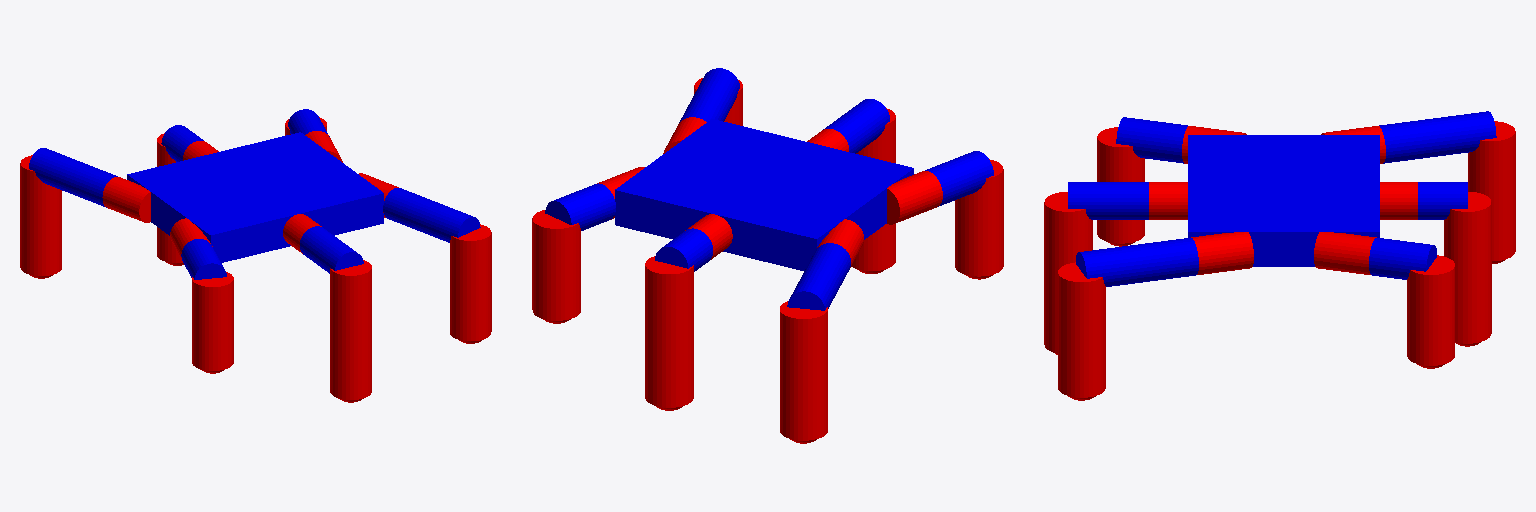
--- Facts derived from the render (not from the file) ---
The picture shows the robot from 3 angles, left to right: view 1: azimuth 30°, elevation 25°; view 2: azimuth 150°, elevation 25°; view 3: azimuth 270°, elevation 25°; orthographic projection.
Robot: pexod — 19 links, 18 joints (18 revolute); root link base_link; default pose: all joints at 0.
Visible links, largest first — view 1: base_link, leg_4_3, leg_3_3, leg_0_3, leg_5_3, leg_3_2, leg_0_2, leg_4_2, leg_0_1, leg_5_2, leg_1_3, leg_1_2 (+3 smaller); view 2: base_link, leg_1_3, leg_0_3, leg_2_3, leg_5_3, leg_0_2, leg_4_3, leg_2_2, leg_5_1, leg_5_2, leg_3_2, leg_4_2 (+5 smaller); view 3: base_link, leg_3_3, leg_1_3, leg_2_3, leg_0_3, leg_3_2, leg_0_2, leg_4_3, leg_5_3, leg_4_2, leg_5_2, leg_2_2 (+5 smaller).
Link boxes in pixels (<box>): base_link: <box>127,132,383,262</box>; leg_4_3: <box>330,260,371,402</box>; leg_3_3: <box>450,224,491,343</box>; leg_0_3: <box>20,155,61,278</box>; leg_5_3: <box>192,272,233,373</box>; leg_3_2: <box>383,188,480,242</box>; leg_0_2: <box>29,148,117,207</box>; leg_4_2: <box>300,226,363,273</box>; leg_0_1: <box>102,177,150,222</box>; leg_5_2: <box>181,239,226,279</box>; leg_1_3: <box>157,133,183,265</box>; leg_1_2: <box>161,125,203,161</box>; base_link: <box>615,119,913,270</box>; leg_1_3: <box>645,256,693,410</box>; leg_0_3: <box>780,301,827,443</box>; leg_2_3: <box>532,210,580,323</box>; leg_5_3: <box>955,159,1003,279</box>; leg_0_2: <box>787,243,850,310</box>; leg_4_3: <box>851,108,895,273</box>; leg_2_2: <box>545,183,615,230</box>; leg_5_1: <box>887,171,942,224</box>; leg_5_2: <box>925,151,993,206</box>; leg_3_2: <box>679,68,739,122</box>; leg_4_2: <box>823,99,889,153</box>; base_link: <box>1188,135,1379,266</box>; leg_3_3: <box>1058,262,1105,400</box>; leg_1_3: <box>1444,192,1491,346</box>; leg_2_3: <box>1407,255,1454,368</box>; leg_0_3: <box>1468,121,1515,263</box>; leg_3_2: <box>1076,238,1198,286</box>; leg_0_2: <box>1379,111,1496,163</box>; leg_4_3: <box>1044,192,1092,354</box>; leg_5_3: <box>1097,127,1144,246</box>; leg_4_2: <box>1068,182,1148,219</box>; leg_5_2: <box>1116,117,1187,163</box>; leg_2_2: <box>1369,238,1436,279</box>.
Size in the robot's own frame: 0.3969 by 0.4903 by 0.1967 metres.
Geometry: primitives only (box / cylinder / sphere), no mesh files.

robot.urdf — pexod:
<?xml version="1.0" ?>
<!-- =================================================================================== -->
<!-- |    This document was autogenerated by xacro from pexod.xacro                    | -->
<!-- |    EDITING THIS FILE BY HAND IS NOT RECOMMENDED                                 | -->
<!-- =================================================================================== -->
<robot name="pexod" xmlns:xacro="http://www.ros.org/wiki/xacro">
  <!-- <xacro:include filename="$(find pexod_description)/urdf/pexod_control.xacro" /> -->
  <!-- MATERIALS -->
  <material name="Blue">
    <color rgba="0 0 1 1"/>
  </material>
  <material name="Red">
    <color rgba="1 0 0 1"/>
  </material>
  <material name="Green">
    <color rgba="0 1 0 1"/>
  </material>
  <material name="Yellow">
    <color rgba="1 1 0 1"/>
  </material>
  <material name="LightGrey">
    <color rgba="0.6 0.6 0.6 1.0"/>
  </material>
  <!-- END OF MATERIALS -->
  <!-- XACRO MACROS FOR VISUALS AND COLLISIONS -->
  <!-- END OF XACRO MACROS -->
  <!-- TORSO -->
  <link name="base_link">
    <visual>
      <origin rpy="0 0 0" xyz="0 0 0"/>
      <geometry>
        <box size="0.24 0.2 0.04"/>
      </geometry>
      <material name="Blue"/>
    </visual>
    <collision>
      <origin rpy="0 0 0" xyz="0 0 0"/>
      <geometry>
        <box size="0.24 0.2 0.04"/>
      </geometry>
    </collision>
    <inertial>
      <!-- CENTER OF MASS -->
      <origin rpy="0 0 0" xyz="0 0 0"/>
      <mass value="1.031"/>
      <!-- box inertia: 1/12*m(y^2+z^2), ... -->
      <inertia ixx="0.00357413333333" ixy="0" ixz="0" iyy="0.00508626666667" iyz="0" izz="0.00838546666667"/>
    </inertial>
  </link>
  <!-- XACRO MACRO FOR LEGS LINKS/JOINTS -->
  <!-- END OF LEG LINKS/JOINTS -->
  <joint name="body_leg_2" type="revolute">
    <parent link="base_link"/>
    <child link="leg_2_1"/>
    <limit effort="30.0" lower="-1.57079632679" upper="1.57079632679" velocity="7.0"/>
    <origin rpy="0 0 -0.3" xyz="0.11 0.04 0"/>
    <!-- <xacro:if value="${index == 5 or index == 4 or index == 3}">
                <axis xyz="0 0 1"/>
            </xacro:if>
            <xacro:if value="${index == 2 or index == 1 or index == 0}"> -->
    <axis xyz="0 0 1"/>
    <!-- </xacro:if> -->
    <dynamics damping="0.0"/>
  </joint>
  <link name="leg_2_1">
    <visual>
      <origin rpy="1.57079632679 0 0" xyz="0.01 0.03 0"/>
      <geometry>
        <cylinder length="0.06" radius="0.02"/>
      </geometry>
      <material name="Red"/>
    </visual>
    <collision>
      <origin rpy="1.57079632679 0 0" xyz="0.01 0.03 0"/>
      <geometry>
        <box size="0.02 0.02 0.06"/>
      </geometry>
    </collision>
    <inertial>
      <!-- CENTER OF MASS -->
      <origin rpy="1.57079632679 0 0" xyz="0.01 0.03 0"/>
      <mass value="0.02"/>
      <!-- box inertia: 1/12*m(y^2+z^2), ... -->
      <inertia ixx="6.66666666667e-06" ixy="0" ixz="0" iyy="6.66666666667e-06" iyz="0" izz="1.33333333333e-06"/>
    </inertial>
  </link>
  <joint name="leg_2_1_2" type="revolute">
    <parent link="leg_2_1"/>
    <child link="leg_2_2"/>
    <limit effort="30.0" lower="-0.78539816339" upper="0.78539816339" velocity="7.0"/>
    <origin rpy="0 0 0" xyz="0 0.06 0"/>
    <axis xyz="1 0 0"/>
    <dynamics damping="0.0"/>
  </joint>
  <link name="leg_2_2">
    <visual>
      <origin rpy="1.57079632679 0 0" xyz="0.01 0.0311869751796 0"/>
      <geometry>
        <cylinder length="0.0623739503592" radius="0.02"/>
      </geometry>
      <material name="Blue"/>
    </visual>
    <collision>
      <origin rpy="1.57079632679 0 0" xyz="0.01 0.0311869751796 0"/>
      <geometry>
        <box size="0.02 0.02 0.0623739503592"/>
      </geometry>
    </collision>
    <inertial>
      <!-- CENTER OF MASS -->
      <origin rpy="1.57079632679 0 0" xyz="0.01 0.0311869751796 0"/>
      <mass value="0.184"/>
      <!-- box inertia: 1/12*m(y^2+z^2), ... -->
      <inertia ixx="6.57878151456e-05" ixy="0" ixz="0" iyy="6.57878151456e-05" iyz="0" izz="1.22666666667e-05"/>
    </inertial>
  </link>
  <joint name="leg_2_2_3" type="revolute">
    <parent link="leg_2_2"/>
    <child link="leg_2_3"/>
    <limit effort="30.0" lower="-0.78539816339" upper="0.78539816339" velocity="7.0"/>
    <origin rpy="-1.57079632679 0 0" xyz="0 0.0623739503592 0"/>
    <axis xyz="-1 0 0"/>
    <dynamics damping="0.0"/>
  </joint>
  <link name="leg_2_3">
    <visual>
      <origin rpy="1.57079632679 0 0" xyz="0.0125 0.0521274143335 0"/>
      <geometry>
        <cylinder length="0.104254828667" radius="0.025"/>
      </geometry>
      <material name="Red"/>
    </visual>
    <visual>
      <origin rpy="1.57079632679 0 0" xyz="0.0125 0.091754828667 0"/>
      <geometry>
        <sphere radius="0.025"/>
      </geometry>
      <material name="Red"/>
    </visual>
    <collision>
      <origin rpy="1.57079632679 0 0" xyz="0.0125 0.0521274143335 0"/>
      <geometry>
        <box size="0.025 0.025 0.104254828667"/>
      </geometry>
    </collision>
    <collision>
      <origin rpy="1.57079632679 0 0" xyz="0.0125 0.091754828667 0"/>
      <geometry>
        <sphere radius="0.025"/>
      </geometry>
      <material name="Red"/>
    </collision>
    <inertial>
      <!-- CENTER OF MASS -->
      <origin rpy="1.57079632679 0 0" xyz="0.0125 0.0521274143335 0"/>
      <mass value="0.04"/>
      <!-- box inertia: 1/12*m(y^2+z^2), ... -->
      <inertia ixx="3.83135643346e-05" ixy="0" ixz="0" iyy="3.83135643346e-05" iyz="0" izz="4.16666666667e-06"/>
    </inertial>
  </link>
  <joint name="body_leg_3" type="revolute">
    <parent link="base_link"/>
    <child link="leg_3_1"/>
    <limit effort="30.0" lower="-1.57079632679" upper="1.57079632679" velocity="7.0"/>
    <origin rpy="0 0 0.3" xyz="0.11 -0.04 0"/>
    <!-- <xacro:if value="${index == 5 or index == 4 or index == 3}">
                <axis xyz="0 0 1"/>
            </xacro:if>
            <xacro:if value="${index == 2 or index == 1 or index == 0}"> -->
    <axis xyz="0 0 1"/>
    <!-- </xacro:if> -->
    <dynamics damping="0.0"/>
  </joint>
  <link name="leg_3_1">
    <visual>
      <origin rpy="1.57079632679 0 0" xyz="0.01 -0.03 0"/>
      <geometry>
        <cylinder length="0.06" radius="0.02"/>
      </geometry>
      <material name="Red"/>
    </visual>
    <collision>
      <origin rpy="1.57079632679 0 0" xyz="0.01 -0.03 0"/>
      <geometry>
        <box size="0.02 0.02 0.06"/>
      </geometry>
    </collision>
    <inertial>
      <!-- CENTER OF MASS -->
      <origin rpy="1.57079632679 0 0" xyz="0.01 -0.03 0"/>
      <mass value="0.02"/>
      <!-- box inertia: 1/12*m(y^2+z^2), ... -->
      <inertia ixx="6.66666666667e-06" ixy="0" ixz="0" iyy="6.66666666667e-06" iyz="0" izz="1.33333333333e-06"/>
    </inertial>
  </link>
  <joint name="leg_3_1_2" type="revolute">
    <parent link="leg_3_1"/>
    <child link="leg_3_2"/>
    <limit effort="30.0" lower="-0.78539816339" upper="0.78539816339" velocity="7.0"/>
    <origin rpy="0 0 0" xyz="0 -0.06 0"/>
    <axis xyz="-1 0 0"/>
    <dynamics damping="0.0"/>
  </joint>
  <link name="leg_3_2">
    <visual>
      <origin rpy="1.57079632679 0 0" xyz="0.01 -0.0610281422505 0"/>
      <geometry>
        <cylinder length="0.122056284501" radius="0.02"/>
      </geometry>
      <material name="Blue"/>
    </visual>
    <collision>
      <origin rpy="1.57079632679 0 0" xyz="0.01 -0.0610281422505 0"/>
      <geometry>
        <box size="0.02 0.02 0.122056284501"/>
      </geometry>
    </collision>
    <inertial>
      <!-- CENTER OF MASS -->
      <origin rpy="1.57079632679 0 0" xyz="0.01 -0.0610281422505 0"/>
      <mass value="0.184"/>
      <!-- box inertia: 1/12*m(y^2+z^2), ... -->
      <inertia ixx="0.000234565294322" ixy="0" ixz="0" iyy="0.000234565294322" iyz="0" izz="1.22666666667e-05"/>
    </inertial>
  </link>
  <joint name="leg_3_2_3" type="revolute">
    <parent link="leg_3_2"/>
    <child link="leg_3_3"/>
    <limit effort="30.0" lower="-0.78539816339" upper="0.78539816339" velocity="7.0"/>
    <origin rpy="1.57079632679 0 0" xyz="0 -0.122056284501 0"/>
    <axis xyz="1 0 0"/>
    <dynamics damping="0.0"/>
  </joint>
  <link name="leg_3_3">
    <visual>
      <origin rpy="1.57079632679 0 0" xyz="0.0125 -0.066341648428 0"/>
      <geometry>
        <cylinder length="0.132683296856" radius="0.025"/>
      </geometry>
      <material name="Red"/>
    </visual>
    <visual>
      <origin rpy="1.57079632679 0 0" xyz="0.0125 -0.120183296856 0"/>
      <geometry>
        <sphere radius="0.025"/>
      </geometry>
      <material name="Red"/>
    </visual>
    <collision>
      <origin rpy="1.57079632679 0 0" xyz="0.0125 -0.066341648428 0"/>
      <geometry>
        <box size="0.025 0.025 0.132683296856"/>
      </geometry>
    </collision>
    <collision>
      <origin rpy="1.57079632679 0 0" xyz="0.0125 -0.120183296856 0"/>
      <geometry>
        <sphere radius="0.025"/>
      </geometry>
      <material name="Red"/>
    </collision>
    <inertial>
      <!-- CENTER OF MASS -->
      <origin rpy="1.57079632679 0 0" xyz="0.0125 -0.066341648428 0"/>
      <mass value="0.04"/>
      <!-- box inertia: 1/12*m(y^2+z^2), ... -->
      <inertia ixx="6.07661908819e-05" ixy="0" ixz="0" iyy="6.07661908819e-05" iyz="0" izz="4.16666666667e-06"/>
    </inertial>
  </link>
  <joint name="body_leg_0" type="revolute">
    <parent link="base_link"/>
    <child link="leg_0_1"/>
    <limit effort="30.0" lower="-1.57079632679" upper="1.57079632679" velocity="7.0"/>
    <origin rpy="0 0 0.3" xyz="-0.13 0.04 0"/>
    <!-- <xacro:if value="${index == 5 or index == 4 or index == 3}">
                <axis xyz="0 0 1"/>
            </xacro:if>
            <xacro:if value="${index == 2 or index == 1 or index == 0}"> -->
    <axis xyz="0 0 1"/>
    <!-- </xacro:if> -->
    <dynamics damping="0.0"/>
  </joint>
  <link name="leg_0_1">
    <visual>
      <origin rpy="1.57079632679 0 0" xyz="0.01 0.03 0"/>
      <geometry>
        <cylinder length="0.06" radius="0.02"/>
      </geometry>
      <material name="Red"/>
    </visual>
    <collision>
      <origin rpy="1.57079632679 0 0" xyz="0.01 0.03 0"/>
      <geometry>
        <box size="0.02 0.02 0.06"/>
      </geometry>
    </collision>
    <inertial>
      <!-- CENTER OF MASS -->
      <origin rpy="1.57079632679 0 0" xyz="0.01 0.03 0"/>
      <mass value="0.02"/>
      <!-- box inertia: 1/12*m(y^2+z^2), ... -->
      <inertia ixx="6.66666666667e-06" ixy="0" ixz="0" iyy="6.66666666667e-06" iyz="0" izz="1.33333333333e-06"/>
    </inertial>
  </link>
  <joint name="leg_0_1_2" type="revolute">
    <parent link="leg_0_1"/>
    <child link="leg_0_2"/>
    <limit effort="30.0" lower="-0.78539816339" upper="0.78539816339" velocity="7.0"/>
    <origin rpy="0 0 0" xyz="0 0.06 0"/>
    <axis xyz="1 0 0"/>
    <dynamics damping="0.0"/>
  </joint>
  <link name="leg_0_2">
    <visual>
      <origin rpy="1.57079632679 0 0" xyz="0.01 0.0602685605455 0"/>
      <geometry>
        <cylinder length="0.120537121091" radius="0.02"/>
      </geometry>
      <material name="Blue"/>
    </visual>
    <collision>
      <origin rpy="1.57079632679 0 0" xyz="0.01 0.0602685605455 0"/>
      <geometry>
        <box size="0.02 0.02 0.120537121091"/>
      </geometry>
    </collision>
    <inertial>
      <!-- CENTER OF MASS -->
      <origin rpy="1.57079632679 0 0" xyz="0.01 0.0602685605455 0"/>
      <mass value="0.184"/>
      <!-- box inertia: 1/12*m(y^2+z^2), ... -->
      <inertia ixx="0.000228914362601" ixy="0" ixz="0" iyy="0.000228914362601" iyz="0" izz="1.22666666667e-05"/>
    </inertial>
  </link>
  <joint name="leg_0_2_3" type="revolute">
    <parent link="leg_0_2"/>
    <child link="leg_0_3"/>
    <limit effort="30.0" lower="-0.78539816339" upper="0.78539816339" velocity="7.0"/>
    <origin rpy="-1.57079632679 0 0" xyz="0 0.120537121091 0"/>
    <axis xyz="-1 0 0"/>
    <dynamics damping="0.0"/>
  </joint>
  <link name="leg_0_3">
    <visual>
      <origin rpy="1.57079632679 0 0" xyz="0.0125 0.0689548876985 0"/>
      <geometry>
        <cylinder length="0.137909775397" radius="0.025"/>
      </geometry>
      <material name="Red"/>
    </visual>
    <visual>
      <origin rpy="1.57079632679 0 0" xyz="0.0125 0.125409775397 0"/>
      <geometry>
        <sphere radius="0.025"/>
      </geometry>
      <material name="Red"/>
    </visual>
    <collision>
      <origin rpy="1.57079632679 0 0" xyz="0.0125 0.0689548876985 0"/>
      <geometry>
        <box size="0.025 0.025 0.137909775397"/>
      </geometry>
    </collision>
    <collision>
      <origin rpy="1.57079632679 0 0" xyz="0.0125 0.125409775397 0"/>
      <geometry>
        <sphere radius="0.025"/>
      </geometry>
      <material name="Red"/>
    </collision>
    <inertial>
      <!-- CENTER OF MASS -->
      <origin rpy="1.57079632679 0 0" xyz="0.0125 0.0689548876985 0"/>
      <mass value="0.04"/>
      <!-- box inertia: 1/12*m(y^2+z^2), ... -->
      <inertia ixx="6.54803538335e-05" ixy="0" ixz="0" iyy="6.54803538335e-05" iyz="0" izz="4.16666666667e-06"/>
    </inertial>
  </link>
  <joint name="body_leg_5" type="revolute">
    <parent link="base_link"/>
    <child link="leg_5_1"/>
    <limit effort="30.0" lower="-1.57079632679" upper="1.57079632679" velocity="7.0"/>
    <origin rpy="0 0 -0.3" xyz="-0.13 -0.04 0"/>
    <!-- <xacro:if value="${index == 5 or index == 4 or index == 3}">
                <axis xyz="0 0 1"/>
            </xacro:if>
            <xacro:if value="${index == 2 or index == 1 or index == 0}"> -->
    <axis xyz="0 0 1"/>
    <!-- </xacro:if> -->
    <dynamics damping="0.0"/>
  </joint>
  <link name="leg_5_1">
    <visual>
      <origin rpy="1.57079632679 0 0" xyz="0.01 -0.03 0"/>
      <geometry>
        <cylinder length="0.06" radius="0.02"/>
      </geometry>
      <material name="Red"/>
    </visual>
    <collision>
      <origin rpy="1.57079632679 0 0" xyz="0.01 -0.03 0"/>
      <geometry>
        <box size="0.02 0.02 0.06"/>
      </geometry>
    </collision>
    <inertial>
      <!-- CENTER OF MASS -->
      <origin rpy="1.57079632679 0 0" xyz="0.01 -0.03 0"/>
      <mass value="0.02"/>
      <!-- box inertia: 1/12*m(y^2+z^2), ... -->
      <inertia ixx="6.66666666667e-06" ixy="0" ixz="0" iyy="6.66666666667e-06" iyz="0" izz="1.33333333333e-06"/>
    </inertial>
  </link>
  <joint name="leg_5_1_2" type="revolute">
    <parent link="leg_5_1"/>
    <child link="leg_5_2"/>
    <limit effort="30.0" lower="-0.78539816339" upper="0.78539816339" velocity="7.0"/>
    <origin rpy="0 0 0" xyz="0 -0.06 0"/>
    <axis xyz="-1 0 0"/>
    <dynamics damping="0.0"/>
  </joint>
  <link name="leg_5_2">
    <visual>
      <origin rpy="1.57079632679 0 0" xyz="0.01 -0.0357809800666 0"/>
      <geometry>
        <cylinder length="0.0715619601332" radius="0.02"/>
      </geometry>
      <material name="Blue"/>
    </visual>
    <collision>
      <origin rpy="1.57079632679 0 0" xyz="0.01 -0.0357809800666 0"/>
      <geometry>
        <box size="0.02 0.02 0.0715619601332"/>
      </geometry>
    </collision>
    <inertial>
      <!-- CENTER OF MASS -->
      <origin rpy="1.57079632679 0 0" xyz="0.01 -0.0357809800666 0"/>
      <mass value="0.184"/>
      <!-- box inertia: 1/12*m(y^2+z^2), ... -->
      <inertia ixx="8.4657083451e-05" ixy="0" ixz="0" iyy="8.4657083451e-05" iyz="0" izz="1.22666666667e-05"/>
    </inertial>
  </link>
  <joint name="leg_5_2_3" type="revolute">
    <parent link="leg_5_2"/>
    <child link="leg_5_3"/>
    <limit effort="30.0" lower="-0.78539816339" upper="0.78539816339" velocity="7.0"/>
    <origin rpy="1.57079632679 0 0" xyz="0 -0.0715619601332 0"/>
    <axis xyz="1 0 0"/>
    <dynamics damping="0.0"/>
  </joint>
  <link name="leg_5_3">
    <visual>
      <origin rpy="1.57079632679 0 0" xyz="0.0125 -0.055387061533 0"/>
      <geometry>
        <cylinder length="0.110774123066" radius="0.025"/>
      </geometry>
      <material name="Red"/>
    </visual>
    <visual>
      <origin rpy="1.57079632679 0 0" xyz="0.0125 -0.098274123066 0"/>
      <geometry>
        <sphere radius="0.025"/>
      </geometry>
      <material name="Red"/>
    </visual>
    <collision>
      <origin rpy="1.57079632679 0 0" xyz="0.0125 -0.055387061533 0"/>
      <geometry>
        <box size="0.025 0.025 0.110774123066"/>
      </geometry>
    </collision>
    <collision>
      <origin rpy="1.57079632679 0 0" xyz="0.0125 -0.098274123066 0"/>
      <geometry>
        <sphere radius="0.025"/>
      </geometry>
      <material name="Red"/>
    </collision>
    <inertial>
      <!-- CENTER OF MASS -->
      <origin rpy="1.57079632679 0 0" xyz="0.0125 -0.055387061533 0"/>
      <mass value="0.04"/>
      <!-- box inertia: 1/12*m(y^2+z^2), ... -->
      <inertia ixx="4.29863544701e-05" ixy="0" ixz="0" iyy="4.29863544701e-05" iyz="0" izz="4.16666666667e-06"/>
    </inertial>
  </link>
  <joint name="body_leg_1" type="revolute">
    <parent link="base_link"/>
    <child link="leg_1_1"/>
    <limit effort="30.0" lower="-1.57079632679" upper="1.57079632679" velocity="7.0"/>
    <origin rpy="0 0 0" xyz="-0.01 0.08 0"/>
    <!-- <xacro:if value="${index == 5 or index == 4 or index == 3}">
                <axis xyz="0 0 1"/>
            </xacro:if>
            <xacro:if value="${index == 2 or index == 1 or index == 0}"> -->
    <axis xyz="0 0 1"/>
    <!-- </xacro:if> -->
    <dynamics damping="0.0"/>
  </joint>
  <link name="leg_1_1">
    <visual>
      <origin rpy="1.57079632679 0 0" xyz="0.01 0.03 0"/>
      <geometry>
        <cylinder length="0.06" radius="0.02"/>
      </geometry>
      <material name="Red"/>
    </visual>
    <collision>
      <origin rpy="1.57079632679 0 0" xyz="0.01 0.03 0"/>
      <geometry>
        <box size="0.02 0.02 0.06"/>
      </geometry>
    </collision>
    <inertial>
      <!-- CENTER OF MASS -->
      <origin rpy="1.57079632679 0 0" xyz="0.01 0.03 0"/>
      <mass value="0.02"/>
      <!-- box inertia: 1/12*m(y^2+z^2), ... -->
      <inertia ixx="6.66666666667e-06" ixy="0" ixz="0" iyy="6.66666666667e-06" iyz="0" izz="1.33333333333e-06"/>
    </inertial>
  </link>
  <joint name="leg_1_1_2" type="revolute">
    <parent link="leg_1_1"/>
    <child link="leg_1_2"/>
    <limit effort="30.0" lower="-0.78539816339" upper="0.78539816339" velocity="7.0"/>
    <origin rpy="0 0 0" xyz="0 0.06 0"/>
    <axis xyz="1 0 0"/>
    <dynamics damping="0.0"/>
  </joint>
  <link name="leg_1_2">
    <visual>
      <origin rpy="1.57079632679 0 0" xyz="0.01 0.0255555781964 0"/>
      <geometry>
        <cylinder length="0.0511111563927" radius="0.02"/>
      </geometry>
      <material name="Blue"/>
    </visual>
    <collision>
      <origin rpy="1.57079632679 0 0" xyz="0.01 0.0255555781964 0"/>
      <geometry>
        <box size="0.02 0.02 0.0511111563927"/>
      </geometry>
    </collision>
    <inertial>
      <!-- CENTER OF MASS -->
      <origin rpy="1.57079632679 0 0" xyz="0.01 0.0255555781964 0"/>
      <mass value="0.184"/>
      <!-- box inertia: 1/12*m(y^2+z^2), ... -->
      <inertia ixx="4.61893713863e-05" ixy="0" ixz="0" iyy="4.61893713863e-05" iyz="0" izz="1.22666666667e-05"/>
    </inertial>
  </link>
  <joint name="leg_1_2_3" type="revolute">
    <parent link="leg_1_2"/>
    <child link="leg_1_3"/>
    <limit effort="30.0" lower="-0.78539816339" upper="0.78539816339" velocity="7.0"/>
    <origin rpy="-1.57079632679 0 0" xyz="0 0.0511111563927 0"/>
    <axis xyz="-1 0 0"/>
    <dynamics damping="0.0"/>
  </joint>
  <link name="leg_1_3">
    <visual>
      <origin rpy="1.57079632679 0 0" xyz="0.0125 0.0756560398225 0"/>
      <geometry>
        <cylinder length="0.151312079645" radius="0.025"/>
      </geometry>
      <material name="Red"/>
    </visual>
    <visual>
      <origin rpy="1.57079632679 0 0" xyz="0.0125 0.138812079645 0"/>
      <geometry>
        <sphere radius="0.025"/>
      </geometry>
      <material name="Red"/>
    </visual>
    <collision>
      <origin rpy="1.57079632679 0 0" xyz="0.0125 0.0756560398225 0"/>
      <geometry>
        <box size="0.025 0.025 0.151312079645"/>
      </geometry>
    </collision>
    <collision>
      <origin rpy="1.57079632679 0 0" xyz="0.0125 0.138812079645 0"/>
      <geometry>
        <sphere radius="0.025"/>
      </geometry>
      <material name="Red"/>
    </collision>
    <inertial>
      <!-- CENTER OF MASS -->
      <origin rpy="1.57079632679 0 0" xyz="0.0125 0.0756560398225 0"/>
      <mass value="0.04"/>
      <!-- box inertia: 1/12*m(y^2+z^2), ... -->
      <inertia ixx="7.84011514883e-05" ixy="0" ixz="0" iyy="7.84011514883e-05" iyz="0" izz="4.16666666667e-06"/>
    </inertial>
  </link>
  <joint name="body_leg_4" type="revolute">
    <parent link="base_link"/>
    <child link="leg_4_1"/>
    <limit effort="30.0" lower="-1.57079632679" upper="1.57079632679" velocity="7.0"/>
    <origin rpy="0 0 0" xyz="-0.01 -0.08 0"/>
    <!-- <xacro:if value="${index == 5 or index == 4 or index == 3}">
                <axis xyz="0 0 1"/>
            </xacro:if>
            <xacro:if value="${index == 2 or index == 1 or index == 0}"> -->
    <axis xyz="0 0 1"/>
    <!-- </xacro:if> -->
    <dynamics damping="0.0"/>
  </joint>
  <link name="leg_4_1">
    <visual>
      <origin rpy="1.57079632679 0 0" xyz="0.01 -0.03 0"/>
      <geometry>
        <cylinder length="0.06" radius="0.02"/>
      </geometry>
      <material name="Red"/>
    </visual>
    <collision>
      <origin rpy="1.57079632679 0 0" xyz="0.01 -0.03 0"/>
      <geometry>
        <box size="0.02 0.02 0.06"/>
      </geometry>
    </collision>
    <inertial>
      <!-- CENTER OF MASS -->
      <origin rpy="1.57079632679 0 0" xyz="0.01 -0.03 0"/>
      <mass value="0.02"/>
      <!-- box inertia: 1/12*m(y^2+z^2), ... -->
      <inertia ixx="6.66666666667e-06" ixy="0" ixz="0" iyy="6.66666666667e-06" iyz="0" izz="1.33333333333e-06"/>
    </inertial>
  </link>
  <joint name="leg_4_1_2" type="revolute">
    <parent link="leg_4_1"/>
    <child link="leg_4_2"/>
    <limit effort="30.0" lower="-0.78539816339" upper="0.78539816339" velocity="7.0"/>
    <origin rpy="0 0 0" xyz="0 -0.06 0"/>
    <axis xyz="-1 0 0"/>
    <dynamics damping="0.0"/>
  </joint>
  <link name="leg_4_2">
    <visual>
      <origin rpy="1.57079632679 0 0" xyz="0.01 -0.0421284290329 0"/>
      <geometry>
        <cylinder length="0.0842568580657" radius="0.02"/>
      </geometry>
      <material name="Blue"/>
    </visual>
    <collision>
      <origin rpy="1.57079632679 0 0" xyz="0.01 -0.0421284290329 0"/>
      <geometry>
        <box size="0.02 0.02 0.0842568580657"/>
      </geometry>
    </collision>
    <inertial>
      <!-- CENTER OF MASS -->
      <origin rpy="1.57079632679 0 0" xyz="0.01 -0.0421284290329 0"/>
      <mass value="0.184"/>
      <!-- box inertia: 1/12*m(y^2+z^2), ... -->
      <inertia ixx="0.000114988011344" ixy="0" ixz="0" iyy="0.000114988011344" iyz="0" izz="1.22666666667e-05"/>
    </inertial>
  </link>
  <joint name="leg_4_2_3" type="revolute">
    <parent link="leg_4_2"/>
    <child link="leg_4_3"/>
    <limit effort="30.0" lower="-0.78539816339" upper="0.78539816339" velocity="7.0"/>
    <origin rpy="1.57079632679 0 0" xyz="0 -0.0842568580657 0"/>
    <axis xyz="1 0 0"/>
    <dynamics damping="0.0"/>
  </joint>
  <link name="leg_4_3">
    <visual>
      <origin rpy="1.57079632679 0 0" xyz="0.0125 -0.0821096778545 0"/>
      <geometry>
        <cylinder length="0.164219355709" radius="0.025"/>
      </geometry>
      <material name="Red"/>
    </visual>
    <visual>
      <origin rpy="1.57079632679 0 0" xyz="0.0125 -0.151719355709 0"/>
      <geometry>
        <sphere radius="0.025"/>
      </geometry>
      <material name="Red"/>
    </visual>
    <collision>
      <origin rpy="1.57079632679 0 0" xyz="0.0125 -0.0821096778545 0"/>
      <geometry>
        <box size="0.025 0.025 0.164219355709"/>
      </geometry>
    </collision>
    <collision>
      <origin rpy="1.57079632679 0 0" xyz="0.0125 -0.151719355709 0"/>
      <geometry>
        <sphere radius="0.025"/>
      </geometry>
      <material name="Red"/>
    </collision>
    <inertial>
      <!-- CENTER OF MASS -->
      <origin rpy="1.57079632679 0 0" xyz="0.0125 -0.0821096778545 0"/>
      <mass value="0.04"/>
      <!-- box inertia: 1/12*m(y^2+z^2), ... -->
      <inertia ixx="9.19766559649e-05" ixy="0" ixz="0" iyy="9.19766559649e-05" iyz="0" izz="4.16666666667e-06"/>
    </inertial>
  </link>
  <!-- END OF LEG LINKS/JOINTS -->
</robot>
